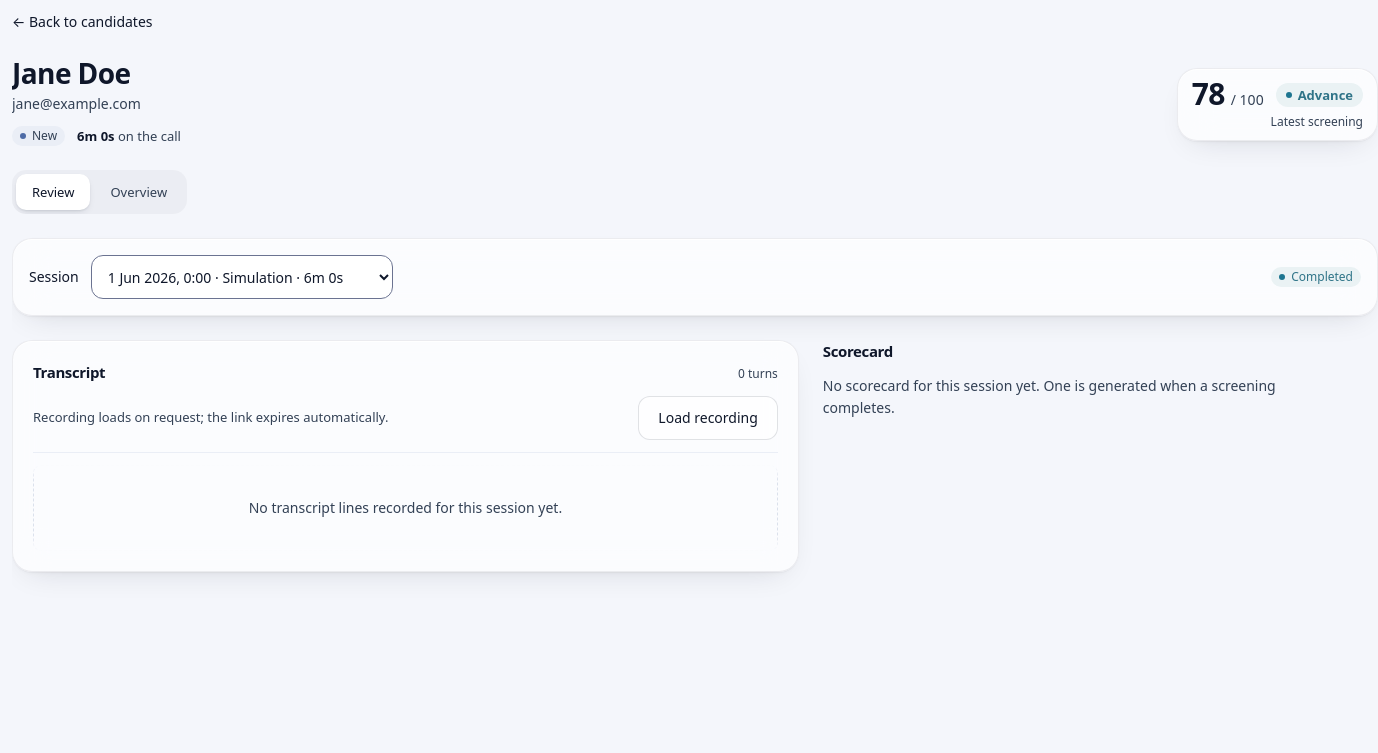
Test case: CandidateDetailPage tabs › gates recording access behind an explicit click
expect the heading "Jane Doe" is shown: met, box 12,54 -> 130,92
Click the tab "Review" at (53, 192), box 16,174 -> 90,210
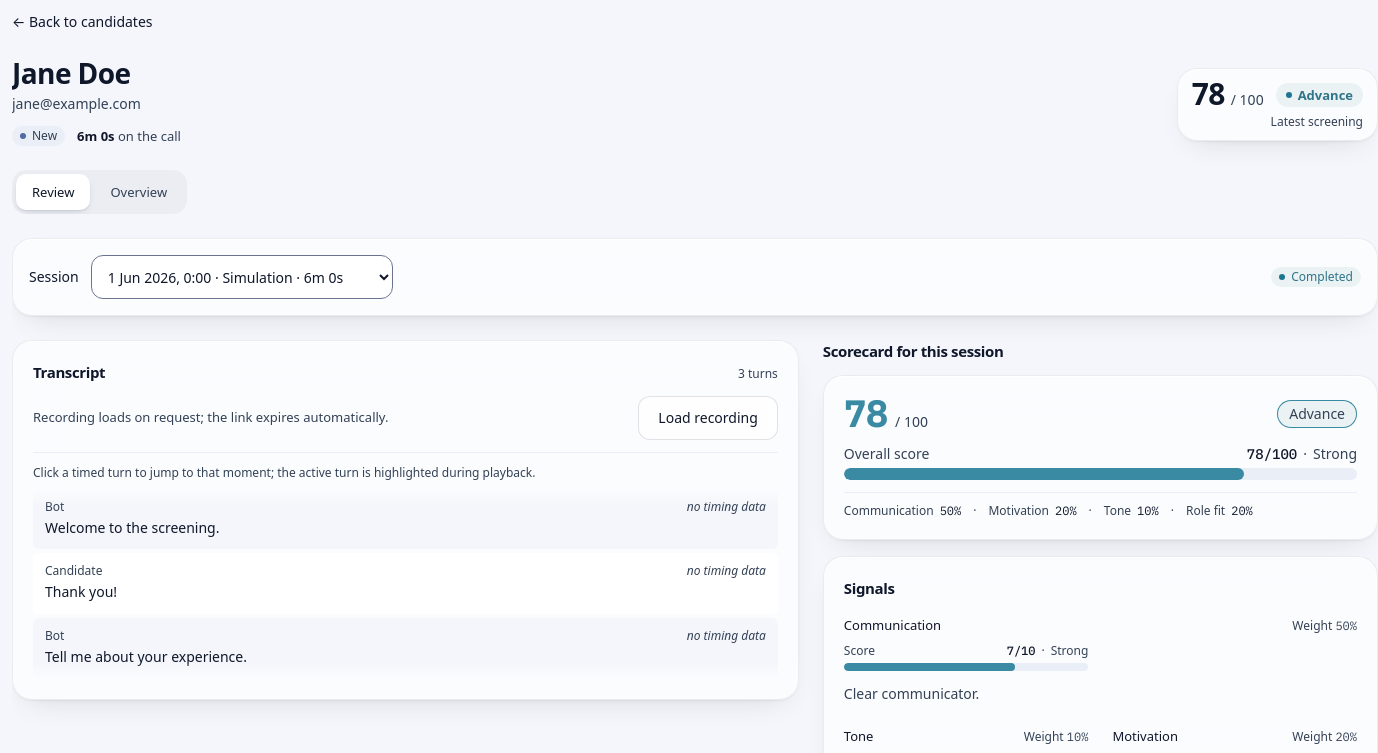
Click the button "Load recording" at (708, 418), box 638,396 -> 778,440
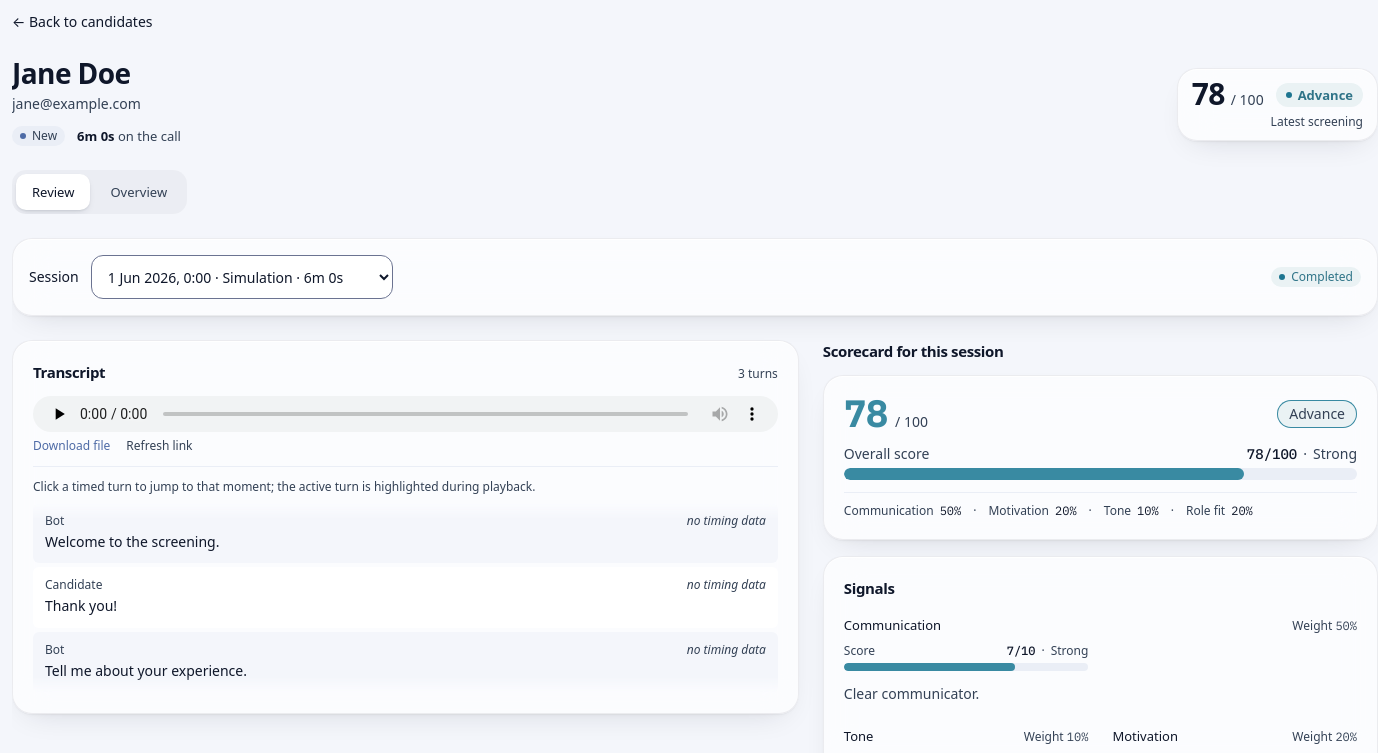
expect the element named "Session recording player" is shown: met, box 33,396 -> 778,432
